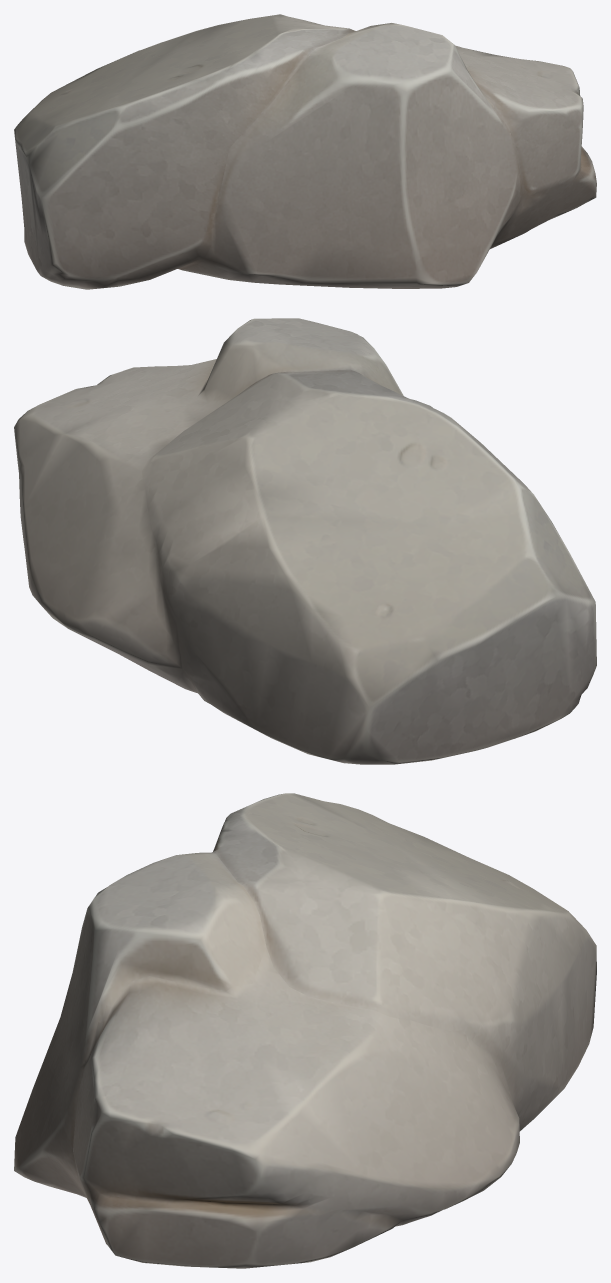
Rendered from sylized_04.obj.
3 views of the same model, one above another, from view 1: azimuth 30°, elevation 25°; view 2: azimuth 150°, elevation 25°; view 3: azimuth 270°, elevation 25° (orthographic). The views are drawn at different scales.
Visible parts, largest first — view 1: SM_Rocks_03; view 2: SM_Rocks_03; view 3: SM_Rocks_03.
Part boxes in pixels (box(x1,y1,x2,y2)): SM_Rocks_03: box(14, 14, 596, 289); SM_Rocks_03: box(14, 318, 596, 764); SM_Rocks_03: box(14, 793, 596, 1268).
Size of the model in its own units: 218 by 88.78 by 161.
